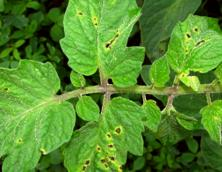Tomato leaf bacterial spot: (0, 57, 81, 172), (53, 0, 149, 89), (52, 94, 149, 172), (166, 12, 222, 80)
